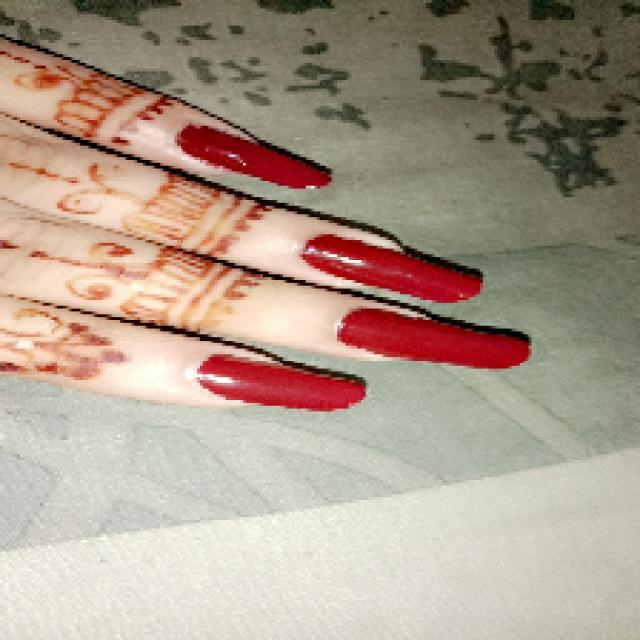Nail: (301, 235, 481, 302), (338, 309, 530, 368), (178, 125, 330, 188), (198, 355, 366, 411)
